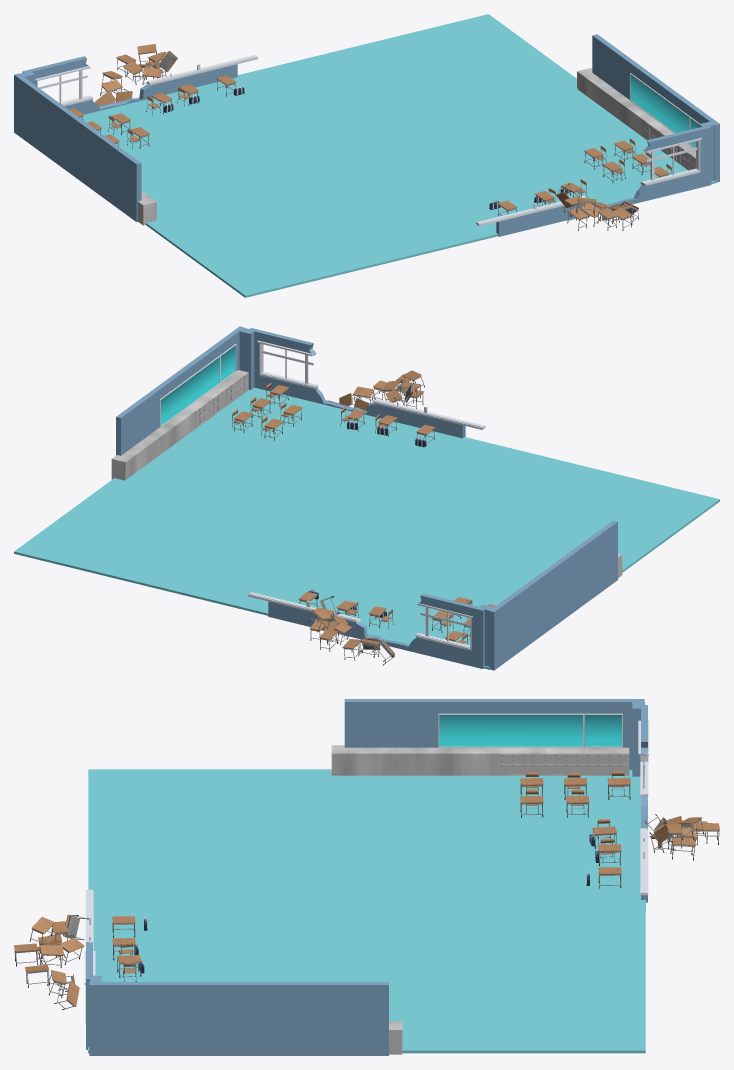
Rendered from newroom.glb.
3 views of the same model, one above another, from view 1: azimuth 30°, elevation 25°; view 2: azimuth 150°, elevation 25°; view 3: azimuth 270°, elevation 25° (orthographic). The views are drawn at different scales.
Parts seen in each view (by area): view 1: Cube.310, Cube.410, Cube.298, Cube, Cube.043, Cube.250, Cube.251, Cube.042, Cube.272, Cube.271, Cube.047, Cube.253; view 2: Cube.410, Cube.310, Cube.298, Cube, Cube.043, Cube.042, Cube.251, Cube.250, Cube.272, Cube.271, Cube.297, Cube.253; view 3: Cube.310, Cube.410, Cube, Cube.251, Cube.298, Cube.043, Cube.047, Cube.046, Cube.045, Cube.070, Cube.042.
Boxes of the visible parts, x1,y1,x2,y2 form: Cube.310: [146, 155, 480, 297]; Cube.410: [253, 14, 591, 154]; Cube.298: [367, 100, 716, 240]; Cube: [80, 71, 366, 205]; Cube.043: [14, 73, 141, 221]; Cube.250: [496, 125, 711, 236]; Cube.251: [592, 34, 719, 182]; Cube.042: [22, 56, 237, 114]; Cube.272: [577, 68, 695, 170]; Cube.271: [629, 73, 689, 143]; Cube.047: [137, 191, 156, 225]; Cube.253: [476, 170, 700, 226]; Cube.410: [14, 470, 366, 611]; Cube.310: [367, 441, 719, 572]; Cube.298: [140, 387, 481, 525]; Cube: [252, 525, 545, 669]; Cube.043: [489, 520, 617, 670]; Cube.042: [268, 593, 485, 668]; Cube.251: [116, 326, 244, 455]; Cube.250: [248, 328, 465, 438]; Cube.272: [111, 370, 248, 480]; Cube.271: [159, 355, 220, 427]; Cube.297: [237, 327, 254, 389]; Cube.253: [259, 371, 485, 429]; Cube.310: [88, 769, 366, 909]; Cube.410: [367, 910, 645, 1053]; Cube: [367, 770, 645, 912]; Cube.251: [89, 982, 388, 1055]; Cube.298: [88, 910, 366, 1053]; Cube.043: [344, 699, 644, 769]; Cube.047: [331, 745, 629, 775]; Cube.046: [438, 713, 583, 747]; Cube.045: [584, 713, 622, 747]; Cube.070: [632, 701, 643, 776]; Cube.042: [641, 705, 647, 902].
Bounding box in the file's own units: 118 × 16.23 × 123.
30 materials, 14 textured.
